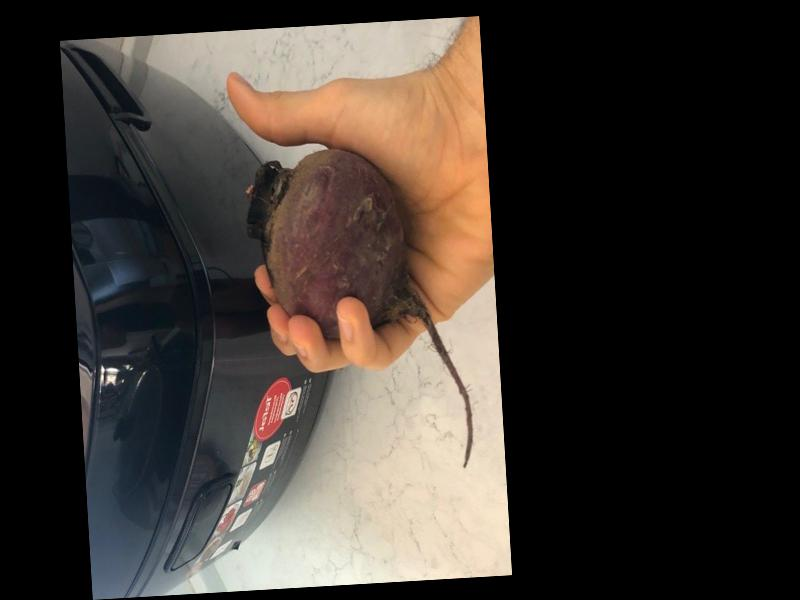Beet: (243, 142, 475, 480)
